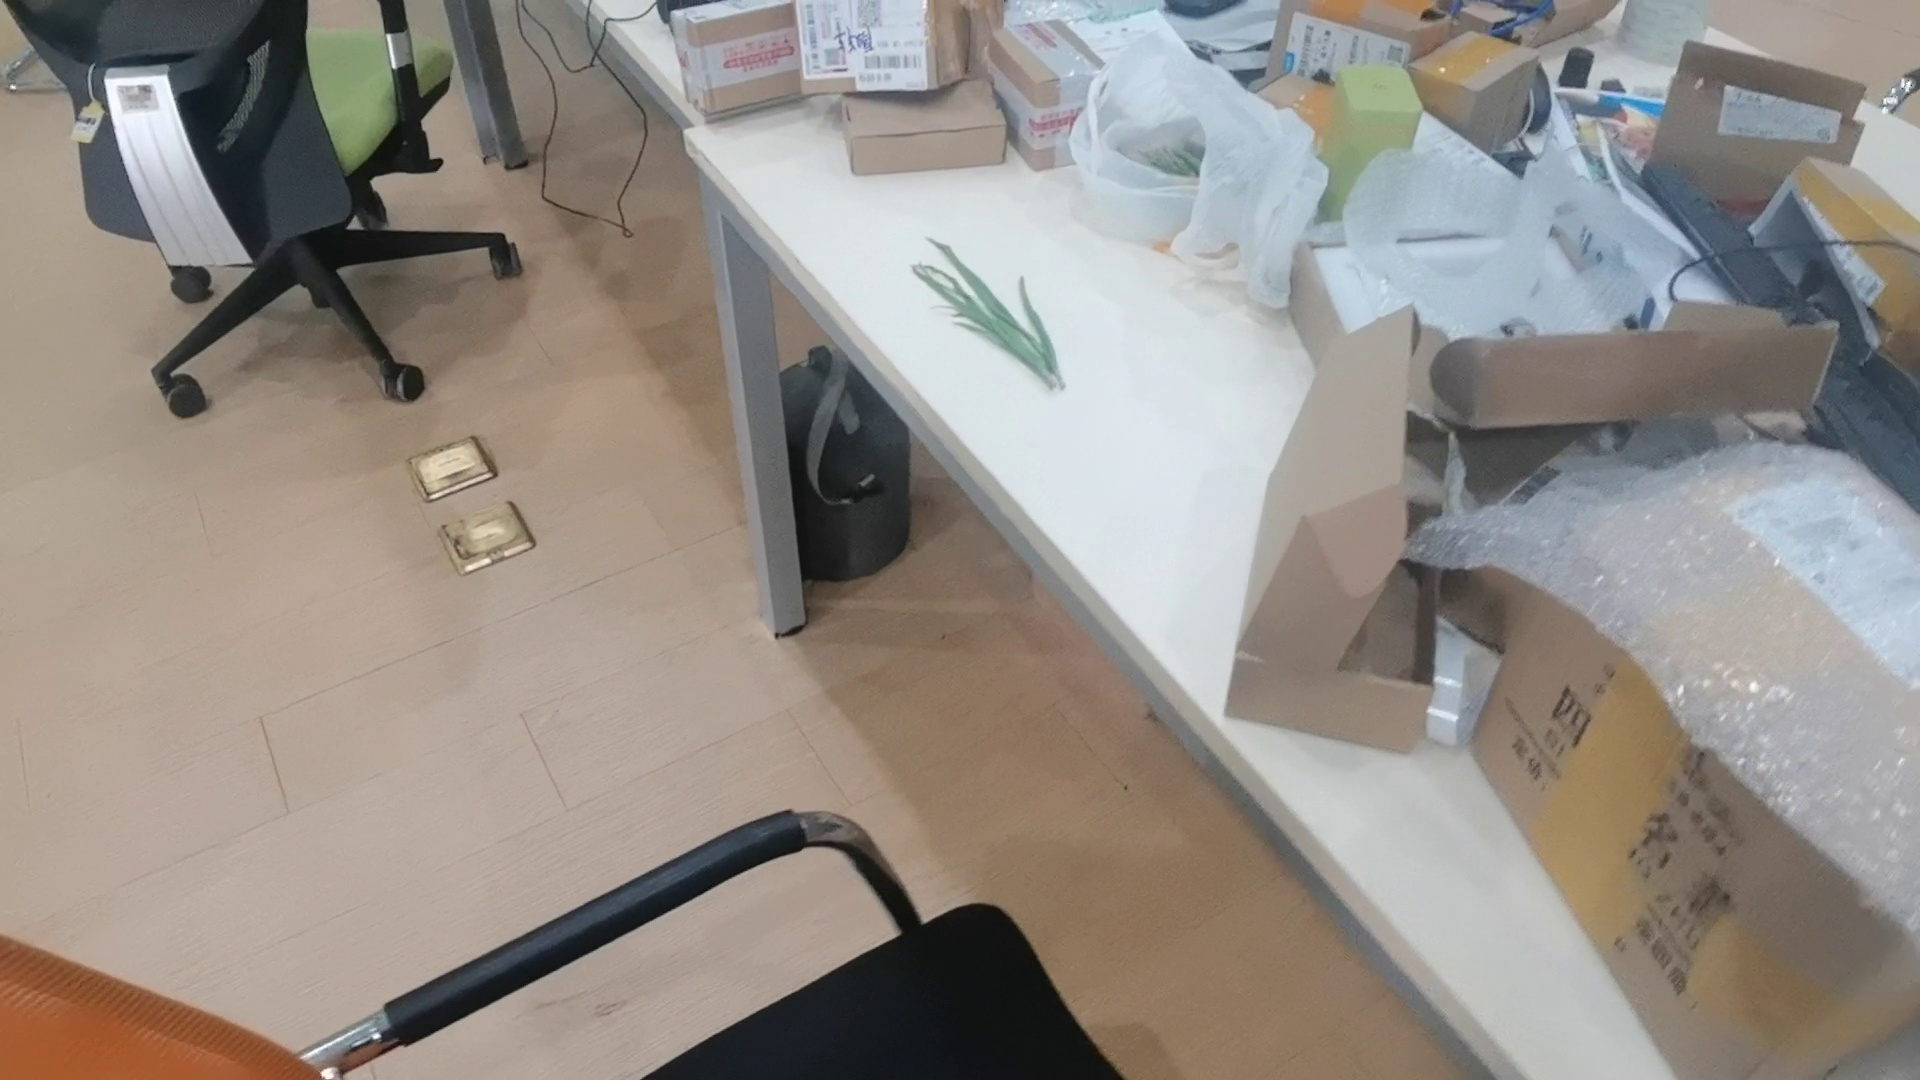chives: (902, 225, 1073, 400)
